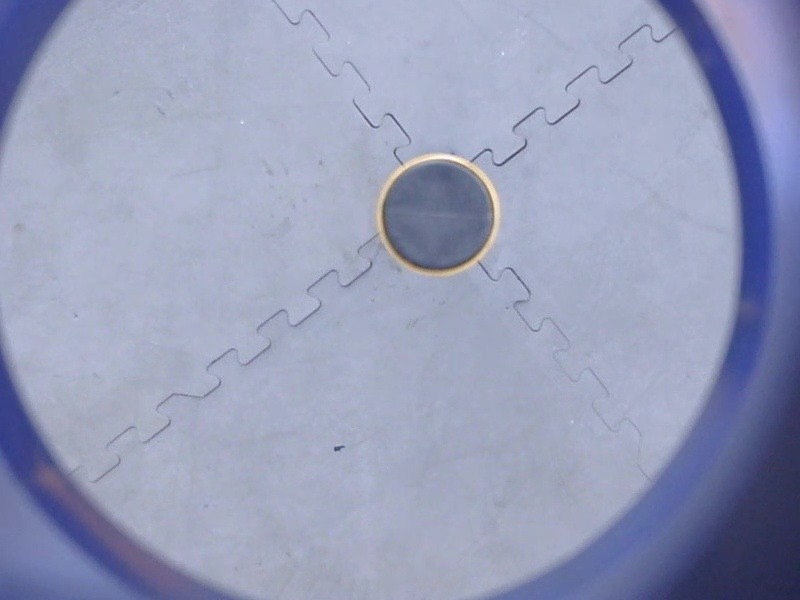tip: (369, 146, 508, 284)
